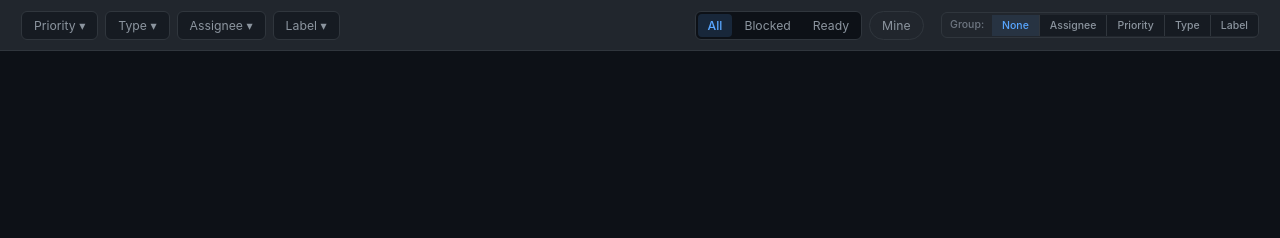
Test: FilterBar › closes priority dropdown when another dropdown is opened
Click the button with class "filter-btn" showing "Priority ▾". click: (60, 25)
box: [21,10,98,40]
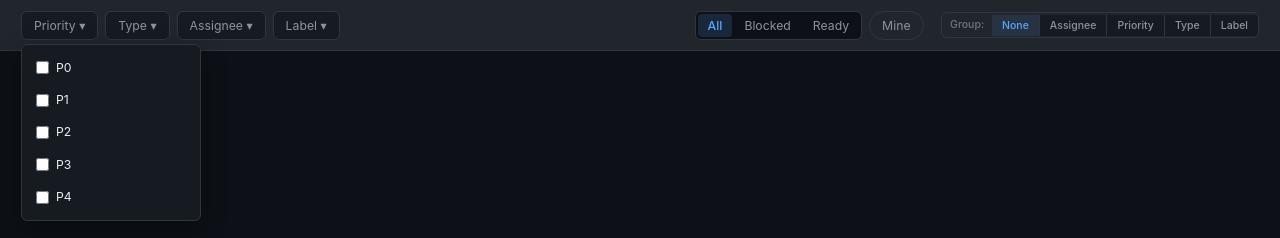
expect the text "P0" is shown: met, box [56,58,72,77]
Click the button with class "filter-btn" showing "Type ▾". click: (137, 25)
box: [105,10,170,40]
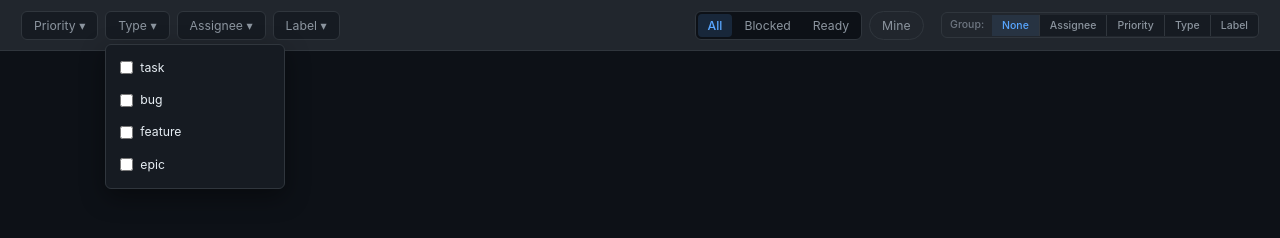
expect the text "P0" is gone: met
expect the text "bug" is shown: met, box [140,91,163,109]
